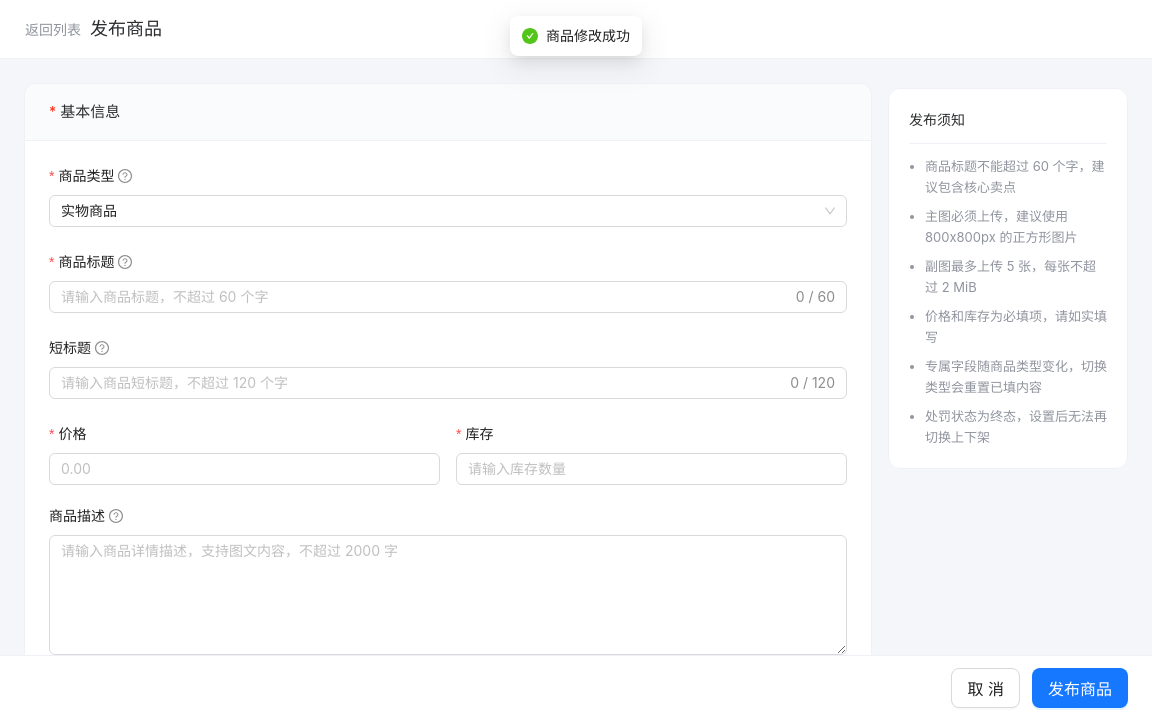
it: ProductFormPage › 快速切换类型时只采用最后选择类型的 schema
Press the mouse on the dropdown labelled "商品类型": (98, 176) [49, 165, 146, 187]
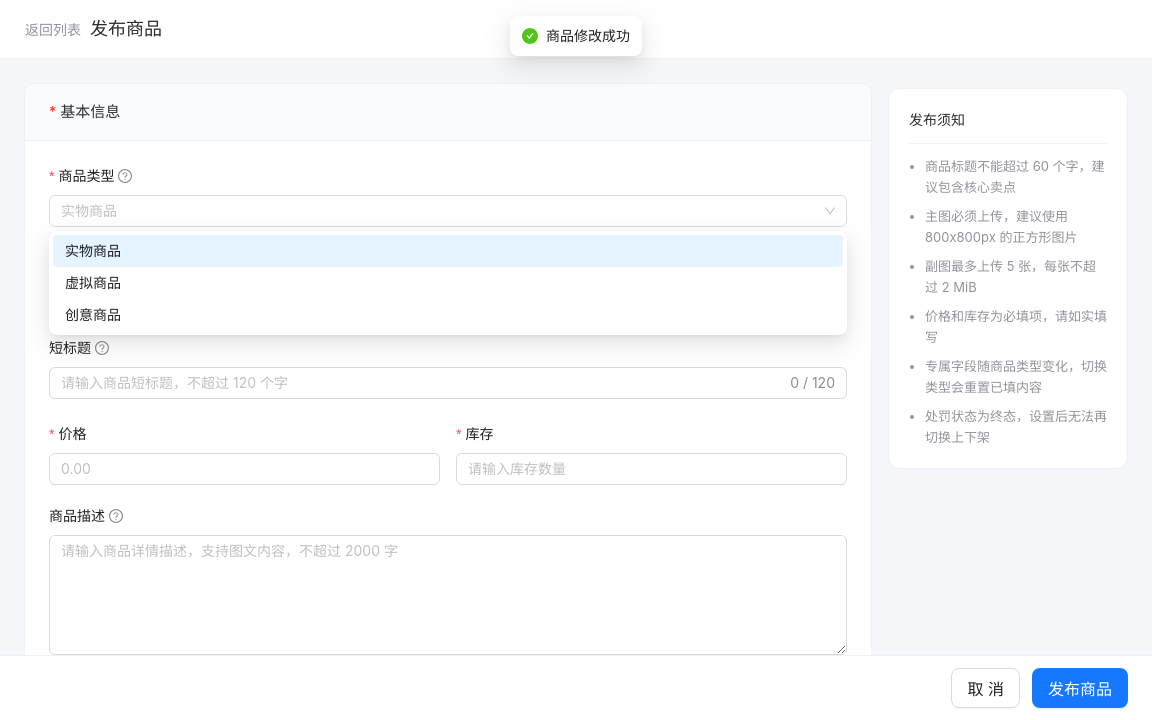
Click the text "虚拟商品": (93, 282) [65, 274, 121, 291]
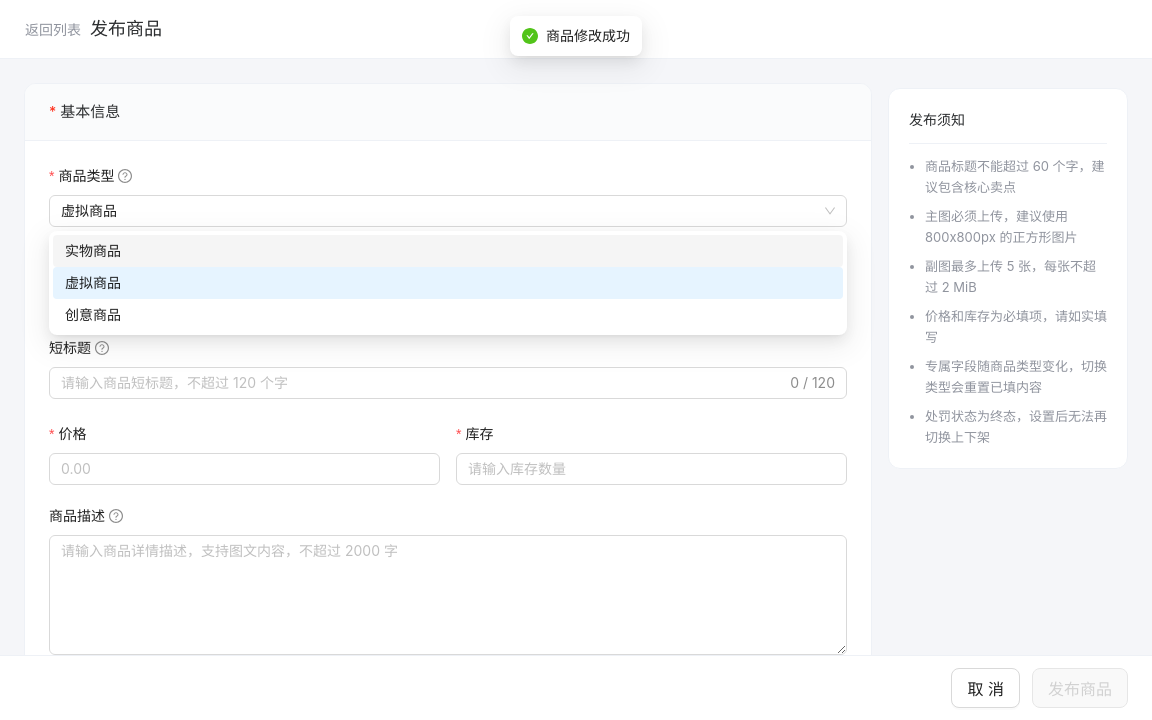
Press the mouse on the dropdown labelled "商品类型": (98, 176) [49, 165, 146, 187]
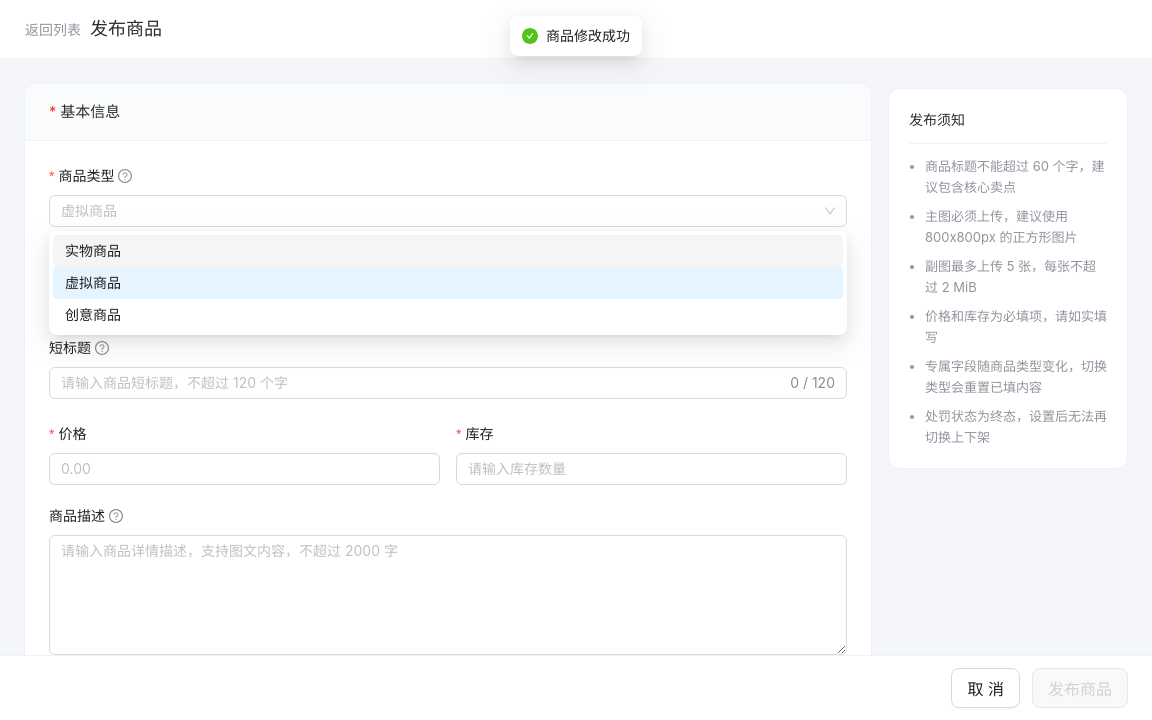
Click the text "创意商品": (93, 314) [65, 306, 121, 323]
(page scrolled)
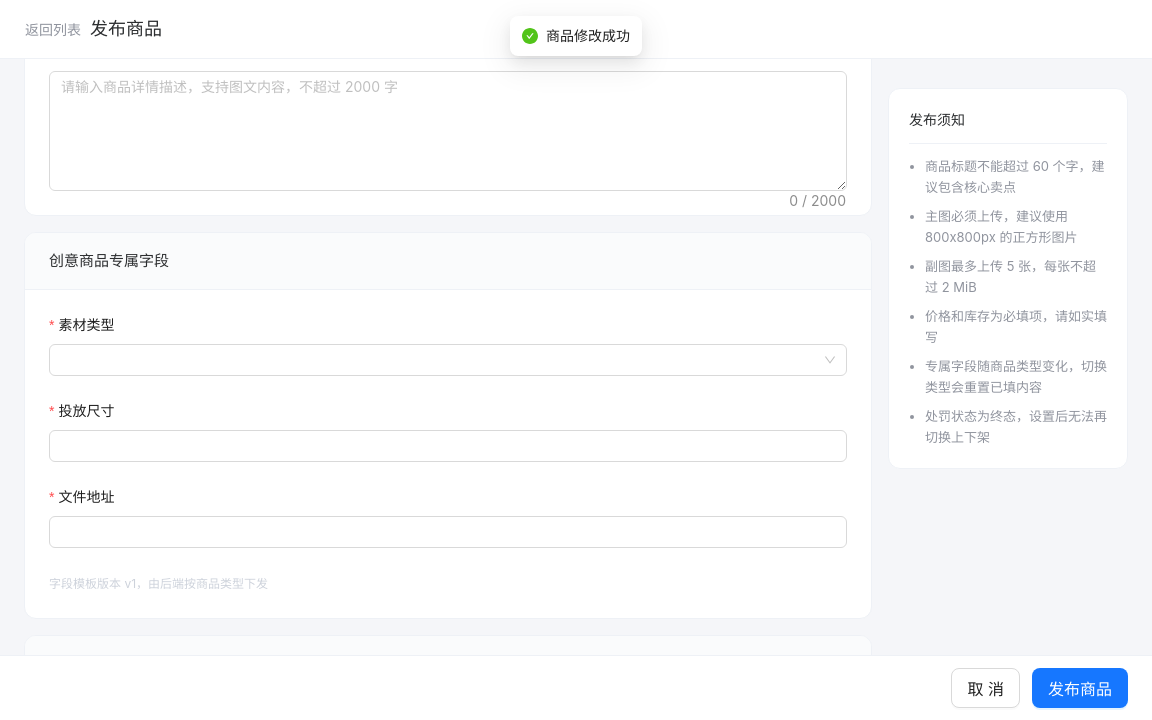
Result: the search field labelled "素材类型" is shown at [49, 314, 128, 336]
